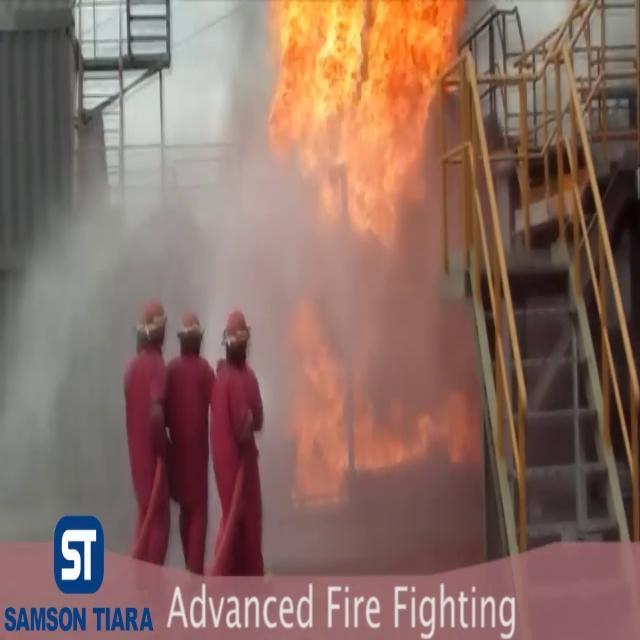Fire: (258, 0, 467, 211)
